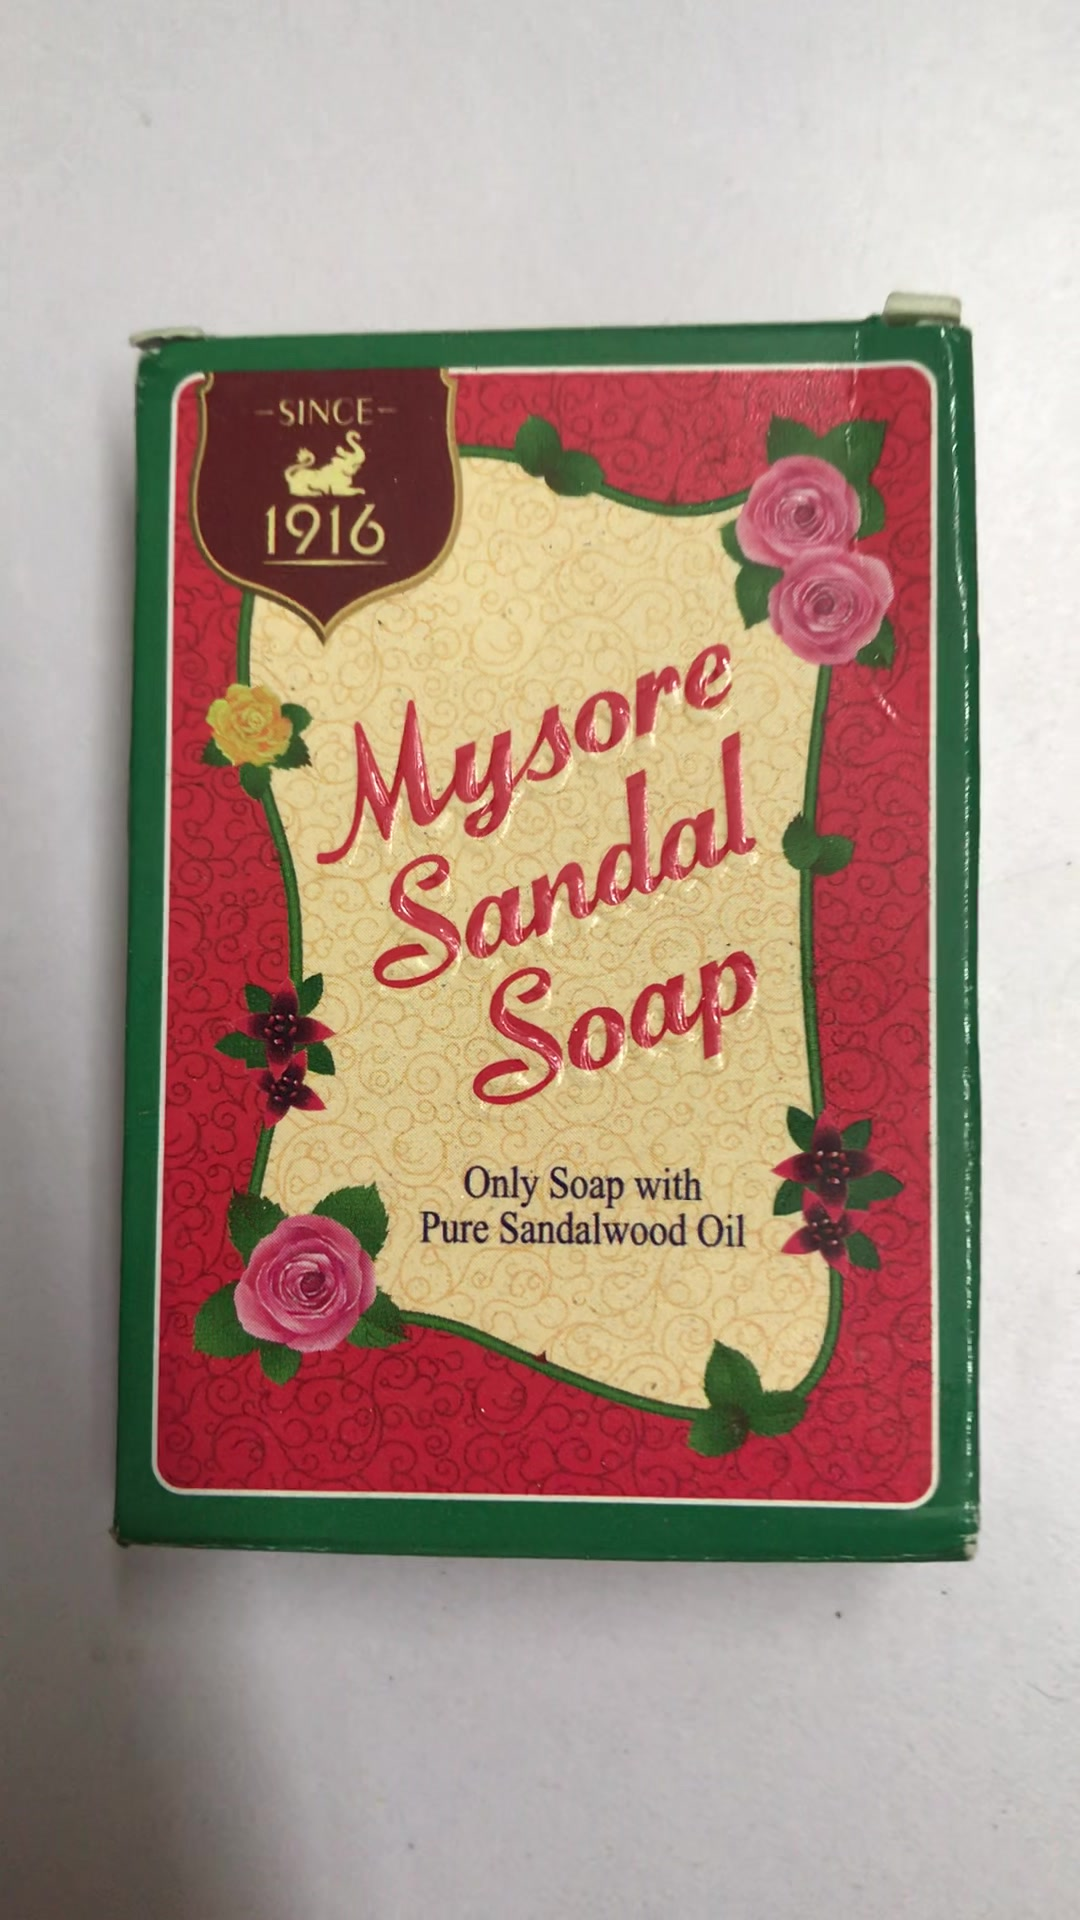mysore sandal soap: (131, 306, 988, 1573)
